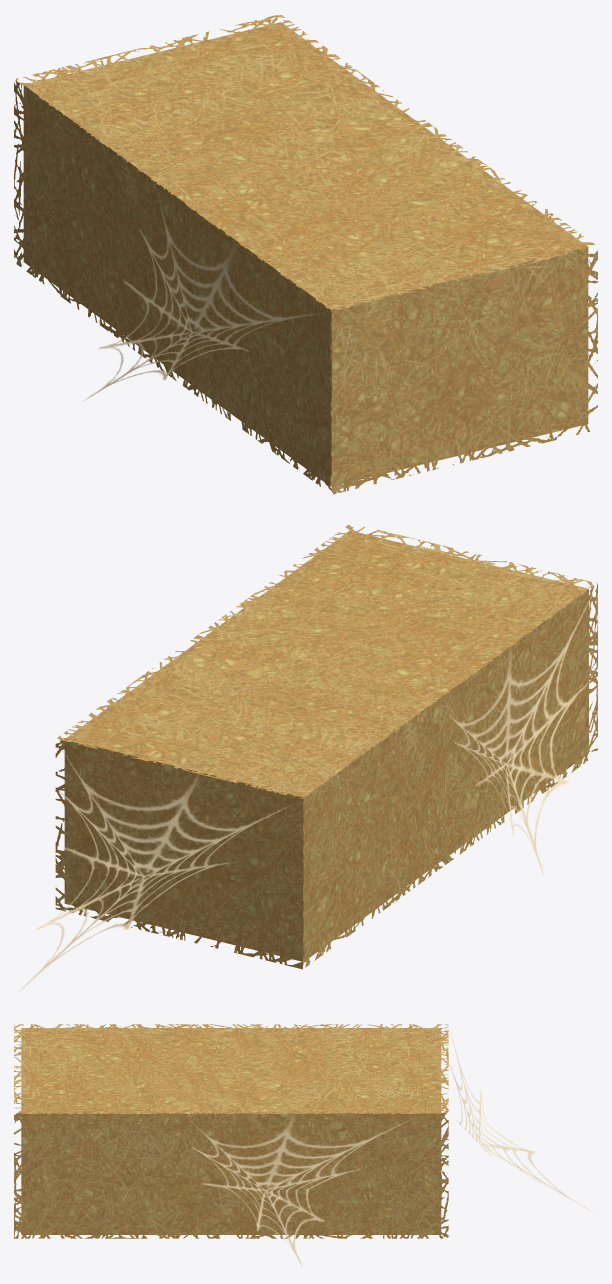
The model's file is Hay_Base_01.gltf.
3 renders of one model, top to bottom at view 1: azimuth 30°, elevation 25°; view 2: azimuth 150°, elevation 25°; view 3: azimuth 270°, elevation 25°, orthographic. The views are drawn at different scales.
Visible parts, largest first — view 1: node_Hay_Base_01_Art, node_Hay_Base_01_Spider; view 2: node_Hay_Base_01_Art, node_Hay_Base_01_Spider; view 3: node_Hay_Base_01_Art, node_Hay_Base_01_Spider.
Part boxes in pixels (left/top/right/bottom): node_Hay_Base_01_Art: left=14, top=15, right=597, bottom=494; node_Hay_Base_01_Spider: left=84, top=192, right=322, bottom=400; node_Hay_Base_01_Art: left=55, top=524, right=597, bottom=969; node_Hay_Base_01_Spider: left=18, top=593, right=593, bottom=992; node_Hay_Base_01_Art: left=14, top=1024, right=448, bottom=1238; node_Hay_Base_01_Spider: left=189, top=1035, right=593, bottom=1266.
Size of the model in its own units: 3.23 by 1.23 by 5.18.
3 materials, 3 textured.
